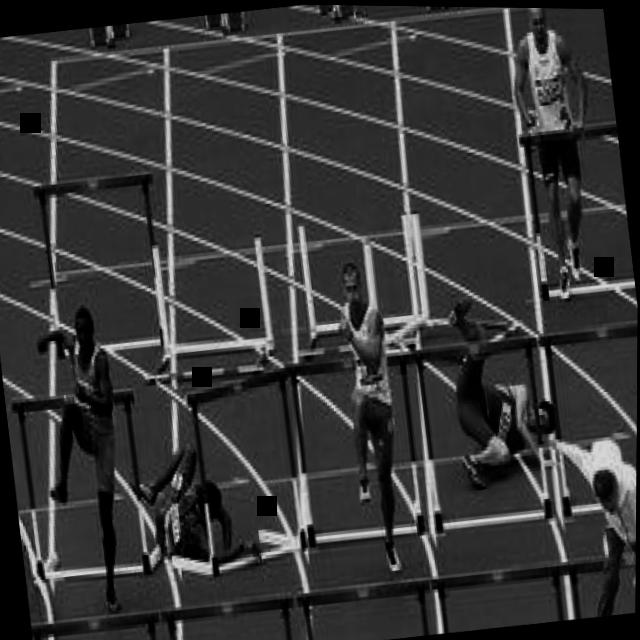Fall-Detected: (130, 420, 256, 575)
